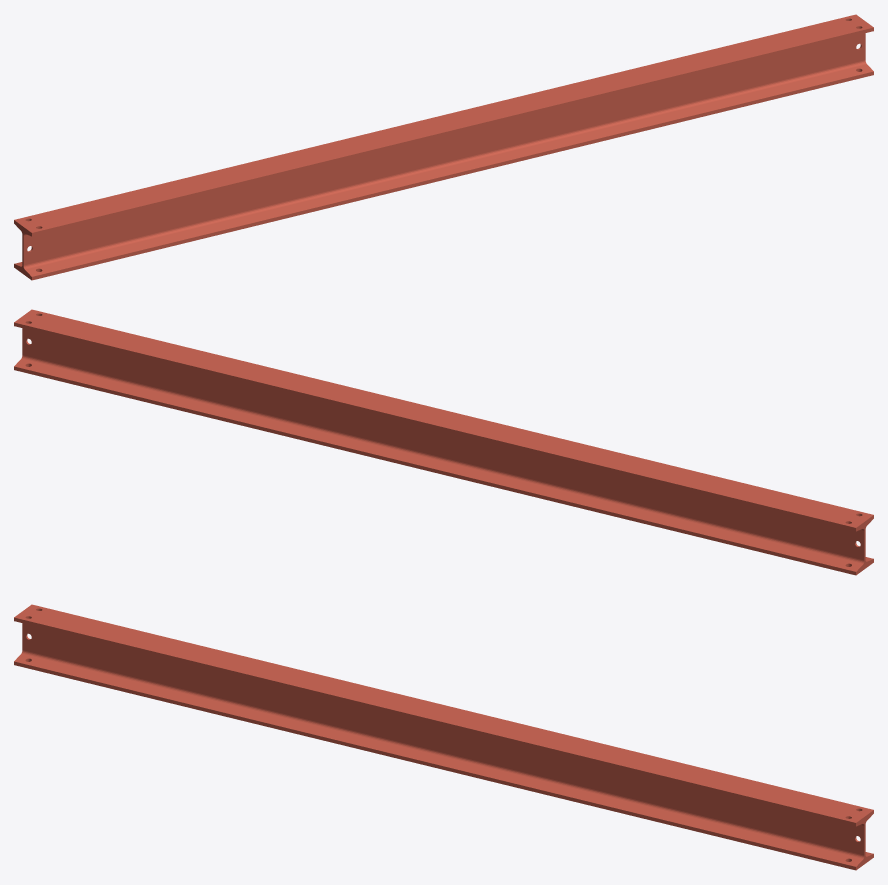
The model's file is EV-CM-HP-185 - H-Profile Long.glb.
3 views of the same model, one above another, from view 1: azimuth 30°, elevation 25°; view 2: azimuth 150°, elevation 25°; view 3: azimuth 330°, elevation 25° (orthographic).
Parts seen in each view (by area): view 1: H-Profile_Long; view 2: H-Profile_Long; view 3: H-Profile_Long.
Boxes of the visible parts, <box> form: H-Profile_Long: <box>14,14,873,280</box>; H-Profile_Long: <box>14,309,873,575</box>; H-Profile_Long: <box>14,604,873,870</box>.
Size of the model in its own units: 1852 by 99.9 by 68.03.
